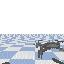drone: (33, 40, 64, 59)
